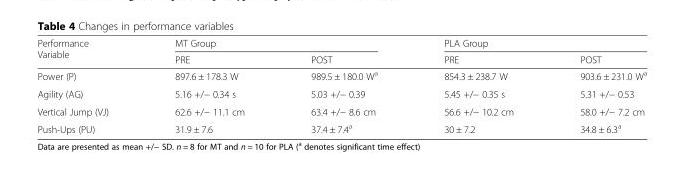table: (36, 36, 646, 134)
table column: (141, 36, 277, 134), (410, 36, 546, 134), (277, 36, 410, 134), (36, 36, 141, 134), (546, 36, 646, 134)
table column header: (36, 36, 646, 66)
table row: (36, 66, 646, 84), (36, 84, 646, 102), (36, 102, 646, 119), (36, 50, 646, 66), (36, 119, 646, 134), (36, 36, 646, 50)
table spanning cell: (141, 36, 410, 50), (410, 36, 646, 50), (36, 36, 141, 66)
